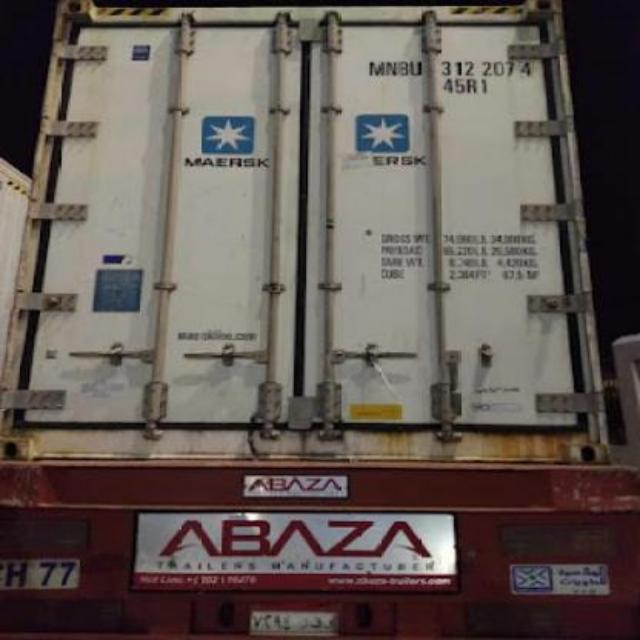0: (492, 62, 504, 78)
1: (456, 58, 462, 74)
2: (464, 60, 478, 76), (482, 60, 494, 76)
3: (438, 58, 454, 74)
4: (522, 60, 532, 76)
7: (504, 59, 516, 77)
B: (400, 60, 410, 76)
M: (368, 59, 386, 75)
N: (386, 59, 398, 77)
U: (410, 60, 422, 76)
